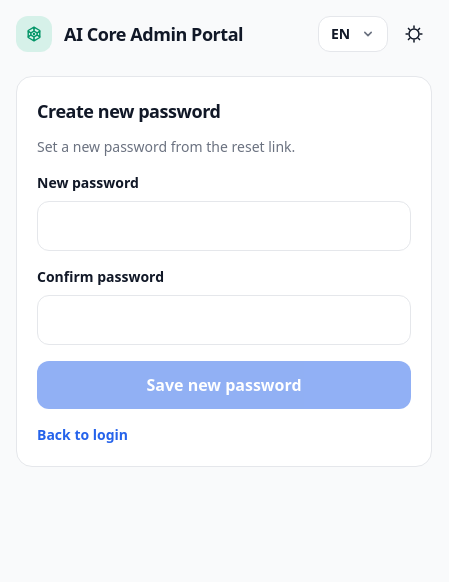
Scenario: PasswordAccessPages › confirms password reset and reports revoked sessions
In the password field labelled "New password": (224, 226) 37,201 -> 411,251, type "StrongPassword123!"
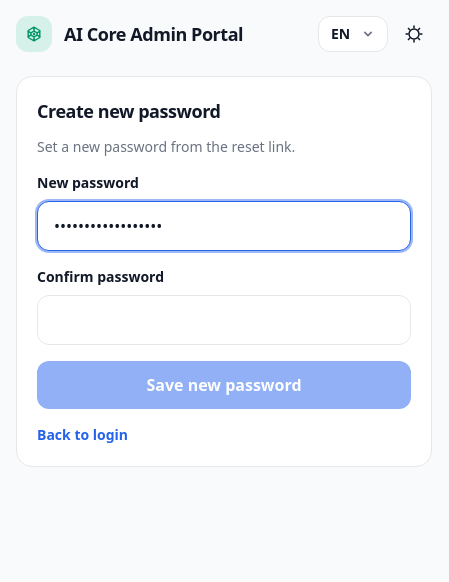
In the password field labelled "Confirm password": (224, 320) 37,295 -> 411,345, type "StrongPassword123!"
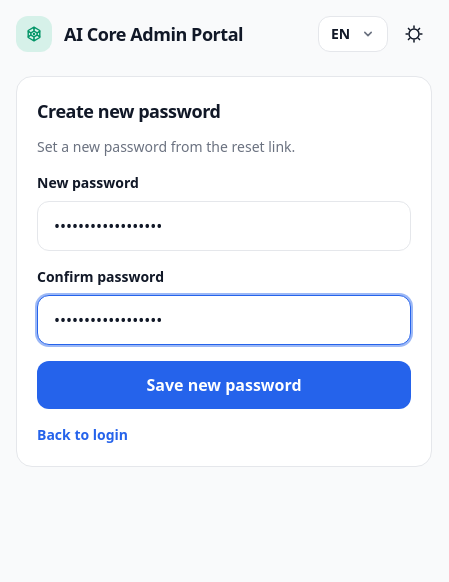
Click the button "Save new password": (224, 385) 37,361 -> 411,409
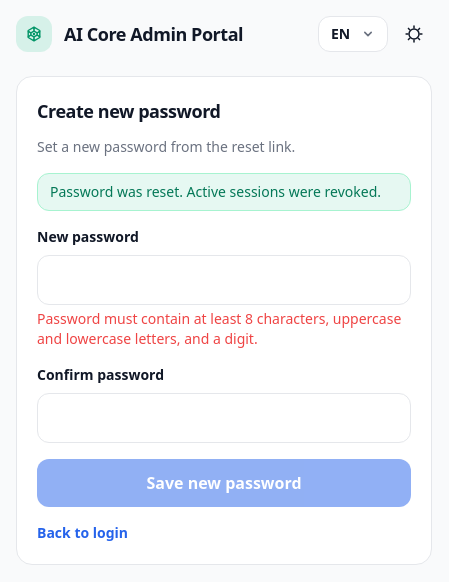
Now the text "Password was reset. Active sessions were revoked." is shown, box 37,173 -> 411,211
